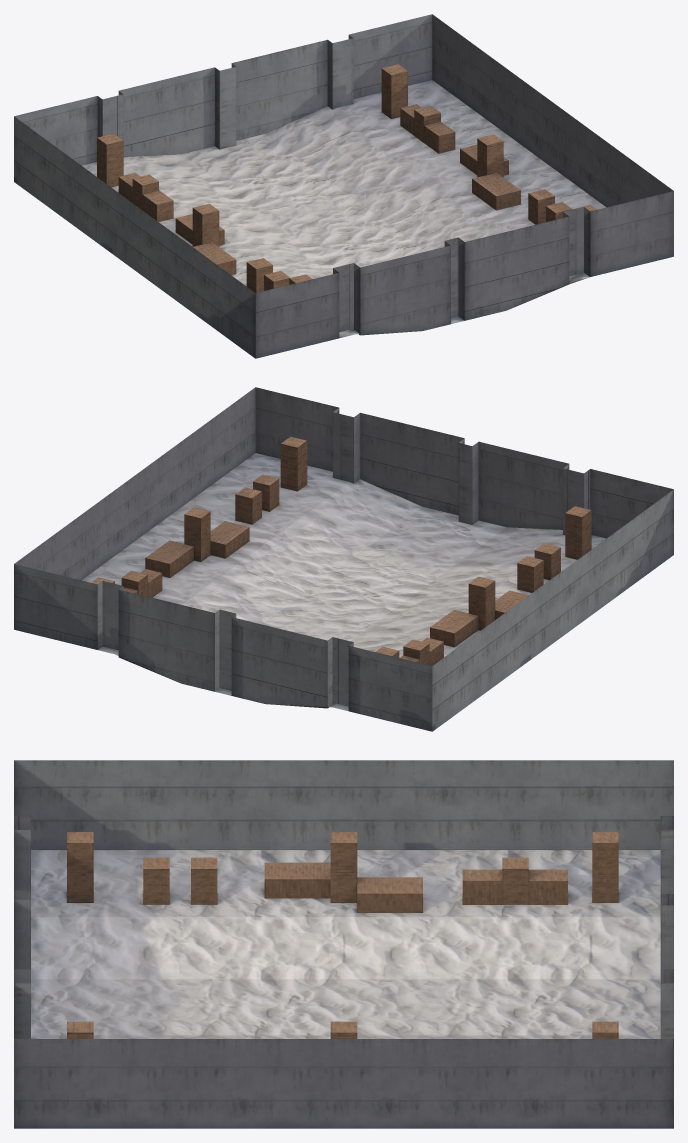
File: space04-1k.glb
The picture shows the model from 3 angles, top to bottom: view 1: azimuth 30°, elevation 25°; view 2: azimuth 150°, elevation 25°; view 3: azimuth 270°, elevation 25°; orthographic projection. The views are drawn at different scales.
Parts seen in each view (by area): view 1: scene_Baked; view 2: scene_Baked; view 3: scene_Baked.
Boxes of the visible parts, <box> form: scene_Baked: <box>14,14,673,358</box>; scene_Baked: <box>14,387,673,731</box>; scene_Baked: <box>14,760,673,1128</box>.
Size of the model in its own units: 50 by 9 by 50.
Materials: 1 (1 with a texture image).
